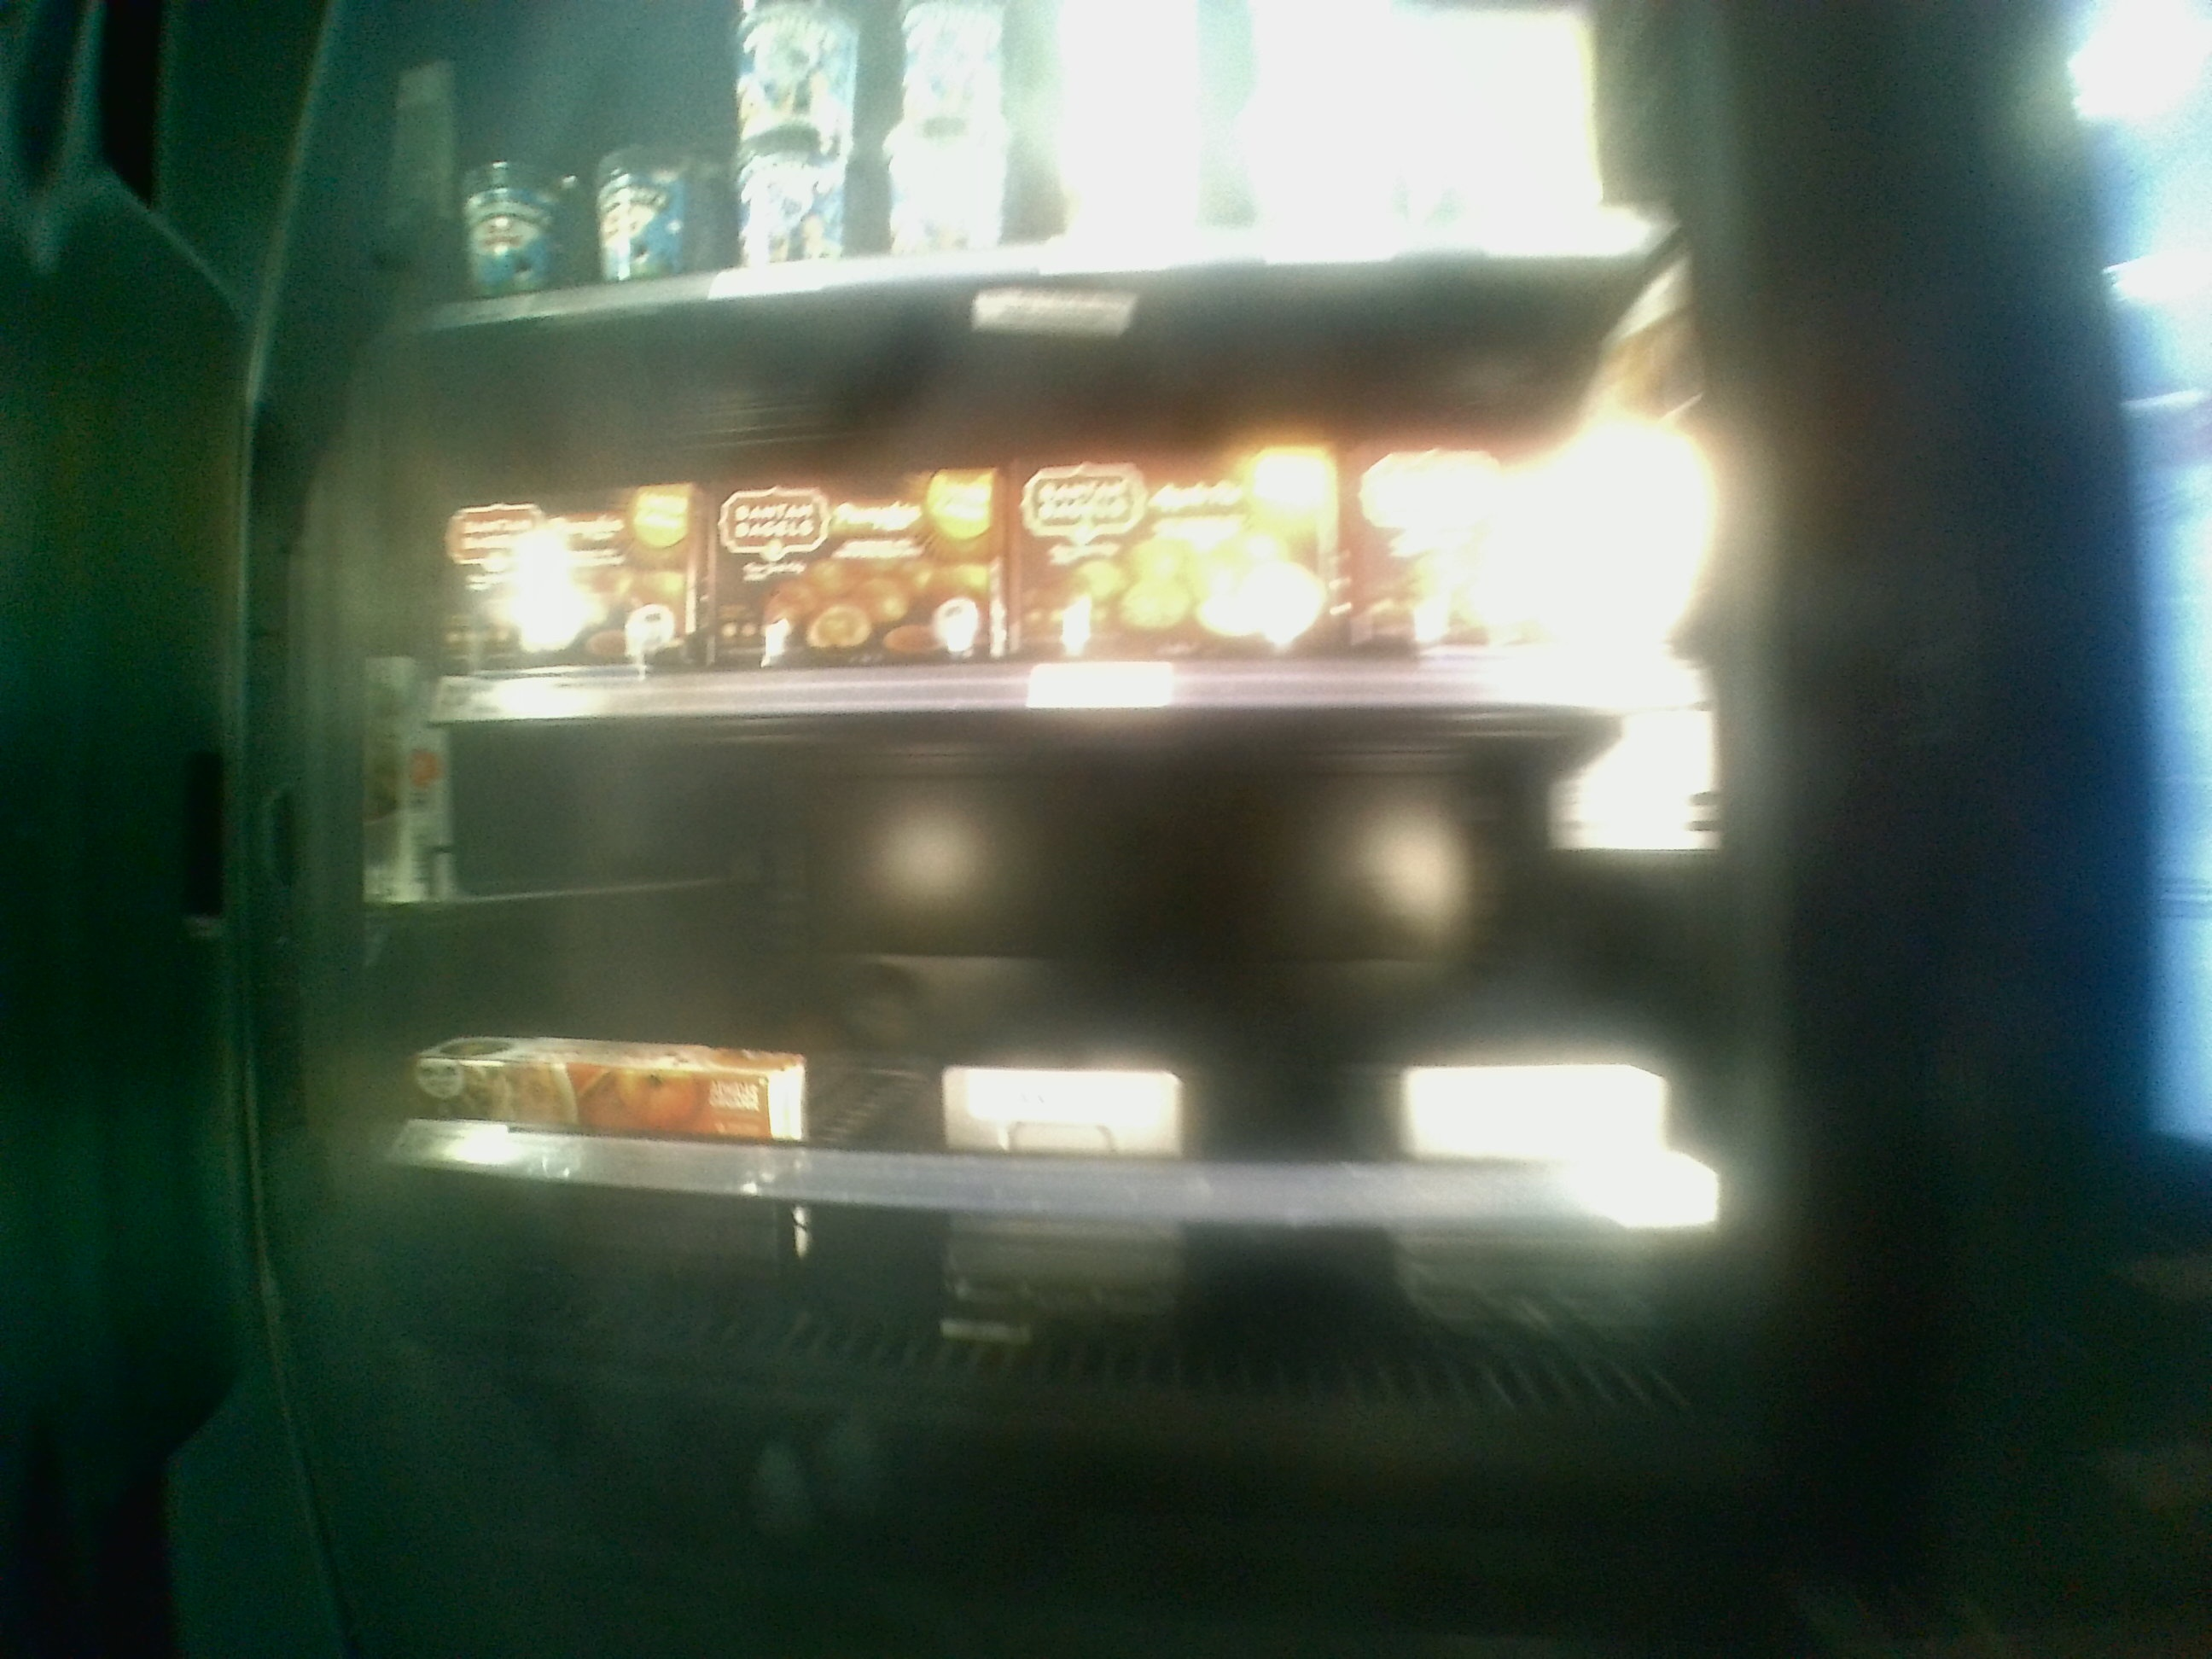shelf: (387, 688, 1693, 1208), (381, 308, 1707, 690)
